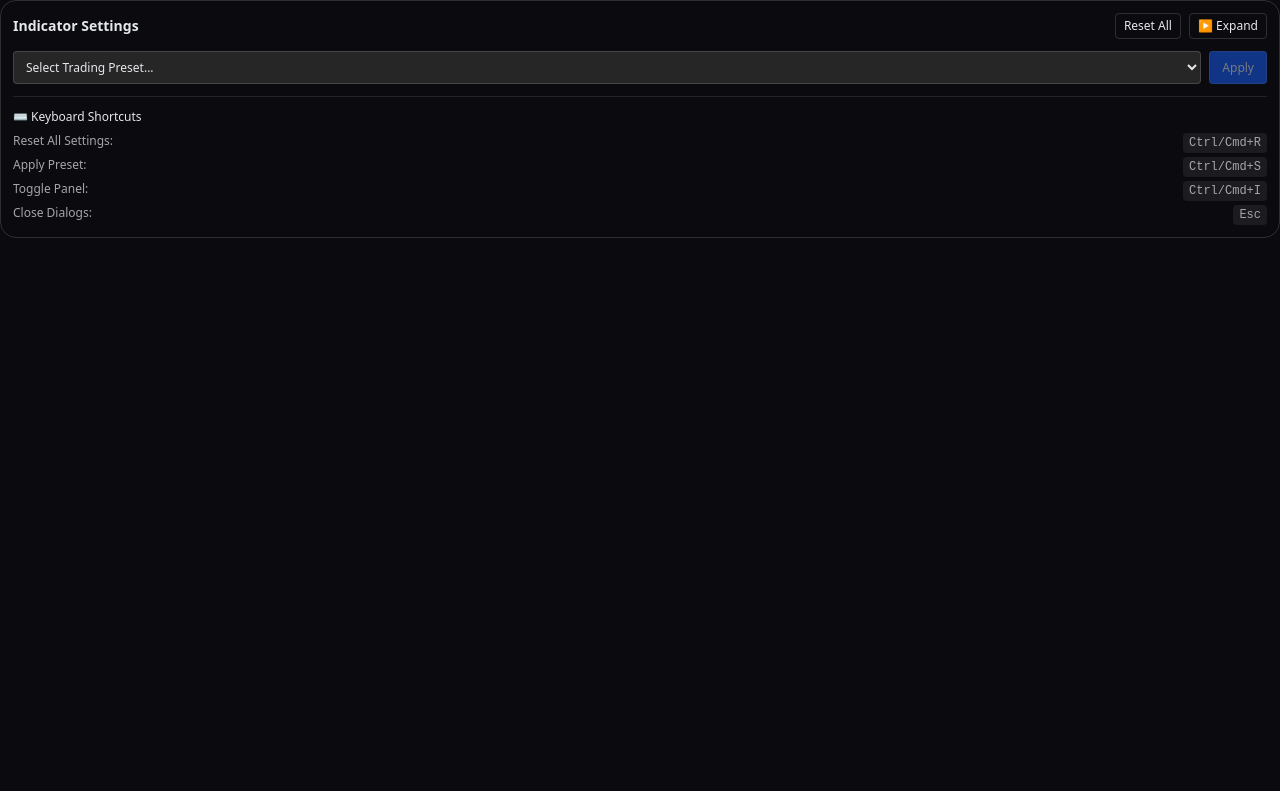
Scenario: IndicatorControlsPanel › Expand/Collapse Functionality › should collapse panel when clicking collapse button
Click the button "▶ Expand". click: (1228, 26)
box: [1189, 13, 1267, 39]
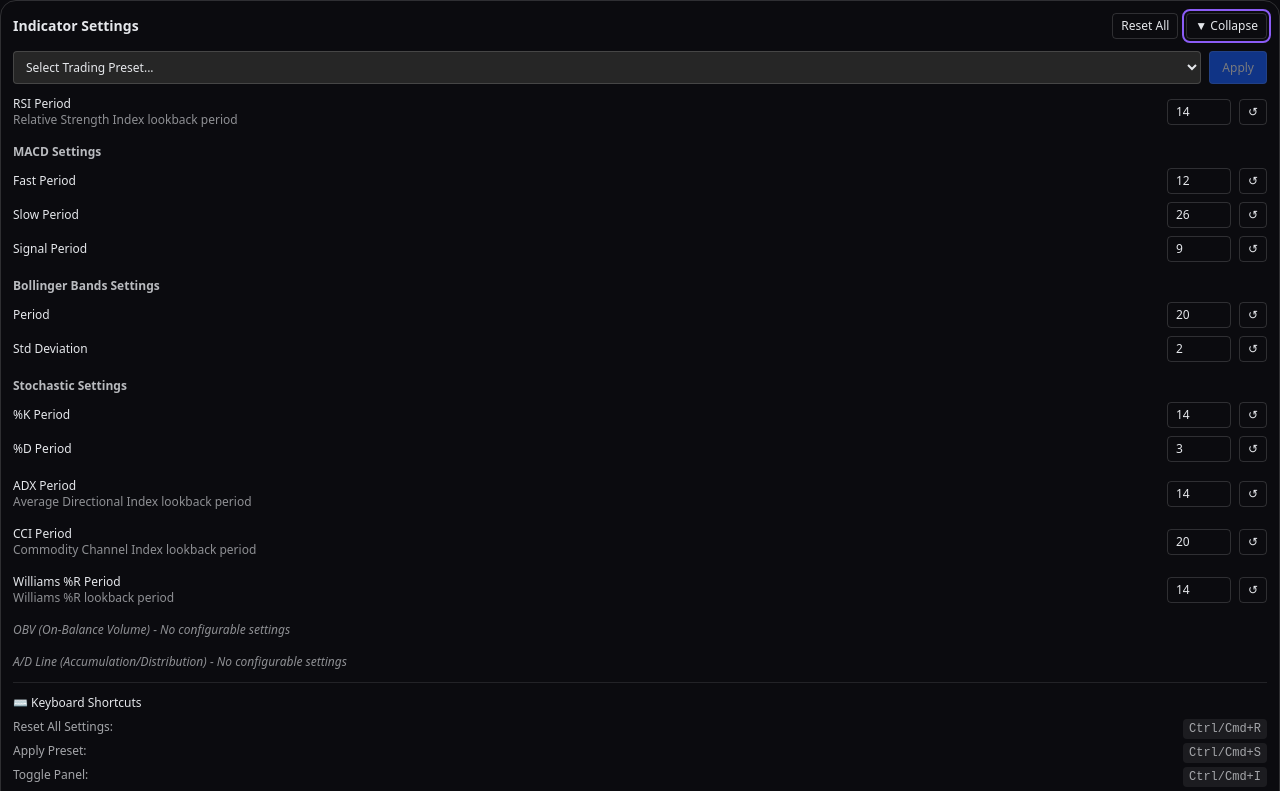
Check: the text "RSI Period" is shown, box [13, 95, 71, 112]
Click the button "▼ Collapse". click: (1227, 26)
box: [1186, 13, 1267, 39]
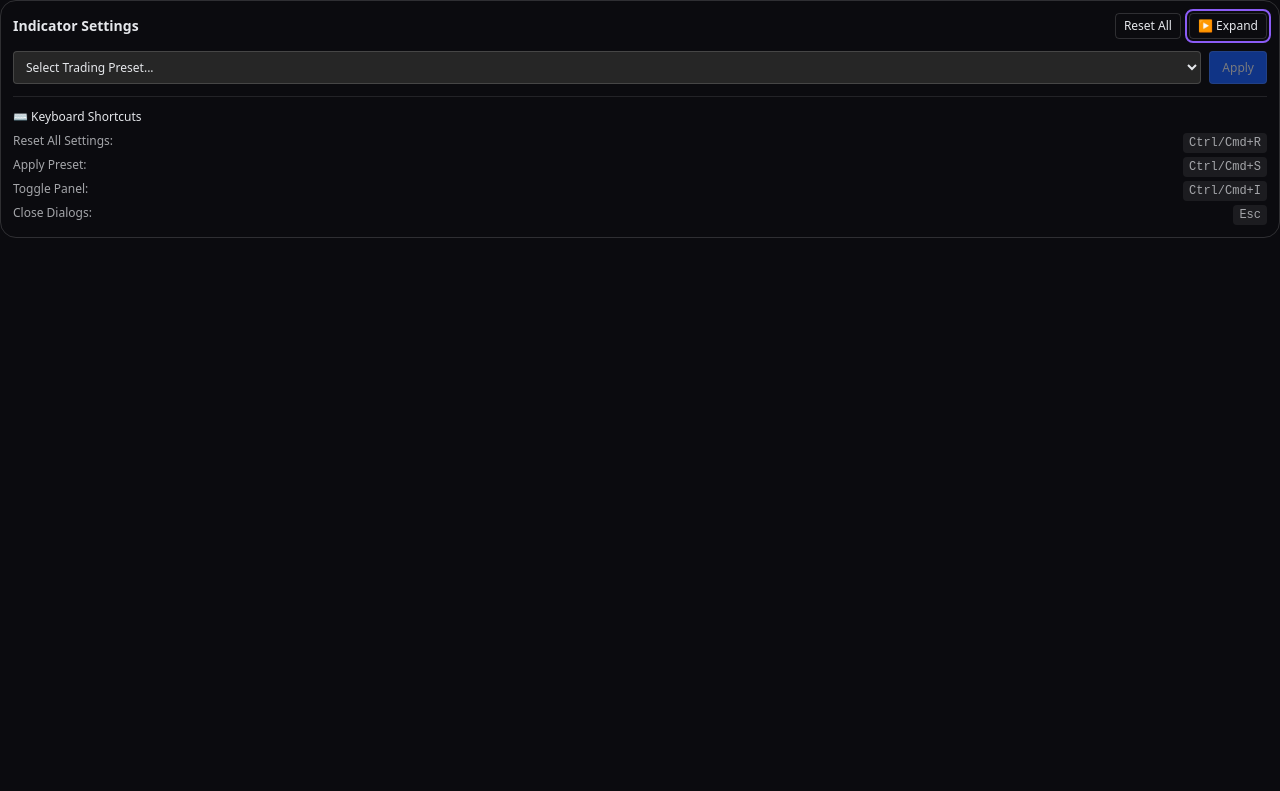
Check: the text "RSI Period" is gone
